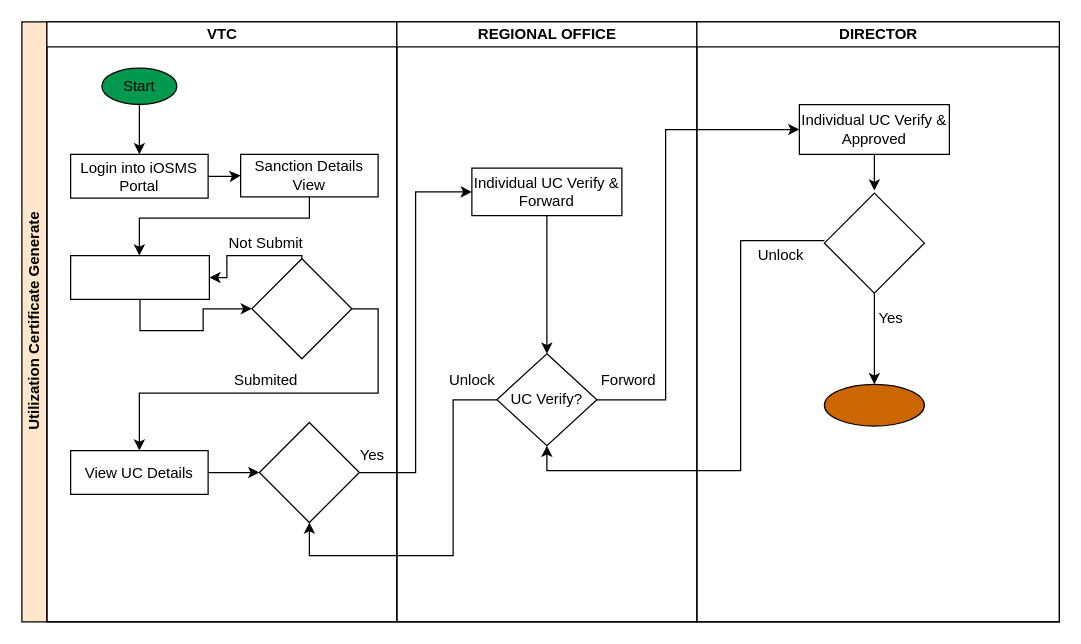
The diagram is 1081 pixels wide and 644 high, and some of its shapes have lost their labels. The shapes that lost their labels are listed below. From the top down, each one's box as (x1, y1, x2, y2) in pixels, then its label:
(823, 192, 924, 293): UC Approved?
(69, 254, 209, 299): UC Submission
(251, 258, 352, 359): Success?
(823, 383, 924, 426): End
(258, 421, 359, 522): UC Send?
